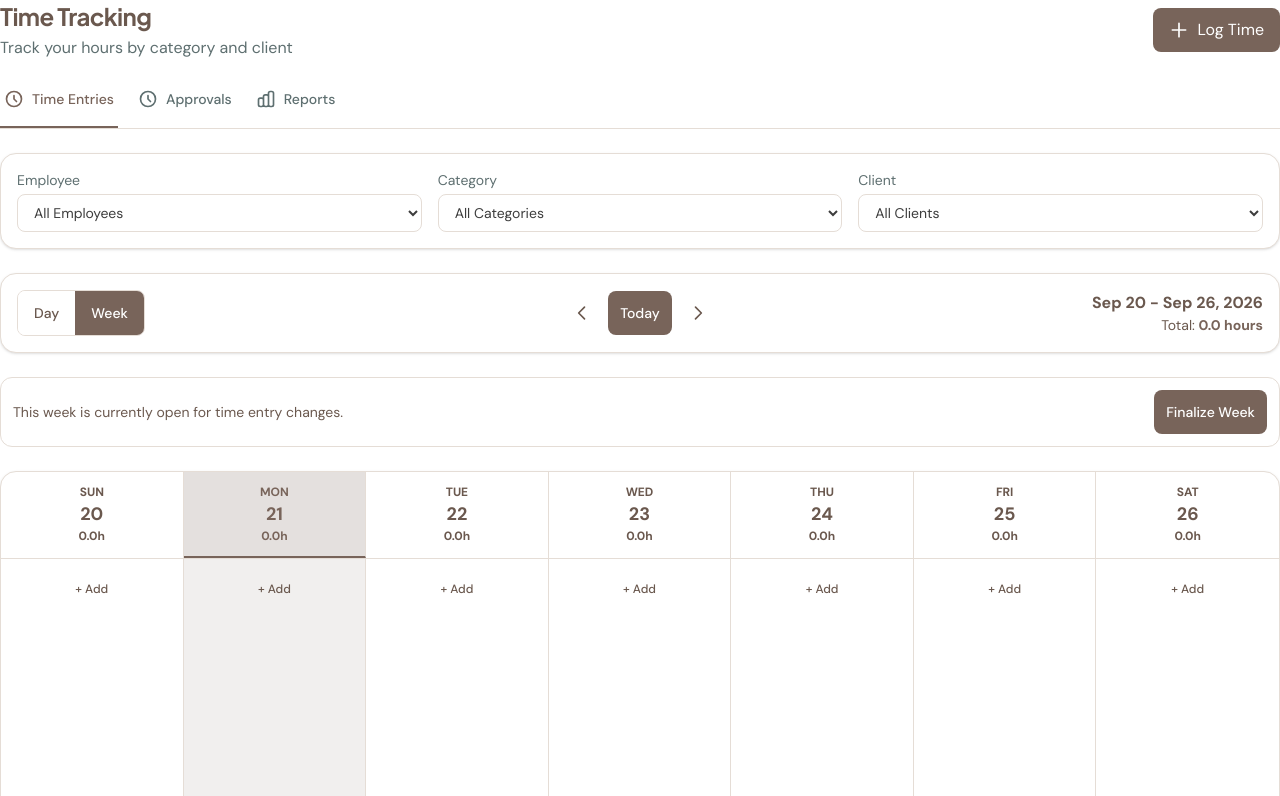
TimeTracking reports › requests long ranges and clears stale totals when a report fails
Click the button "Reports".
click(296, 106)  # box top-left (252, 84), bottom-right (339, 128)
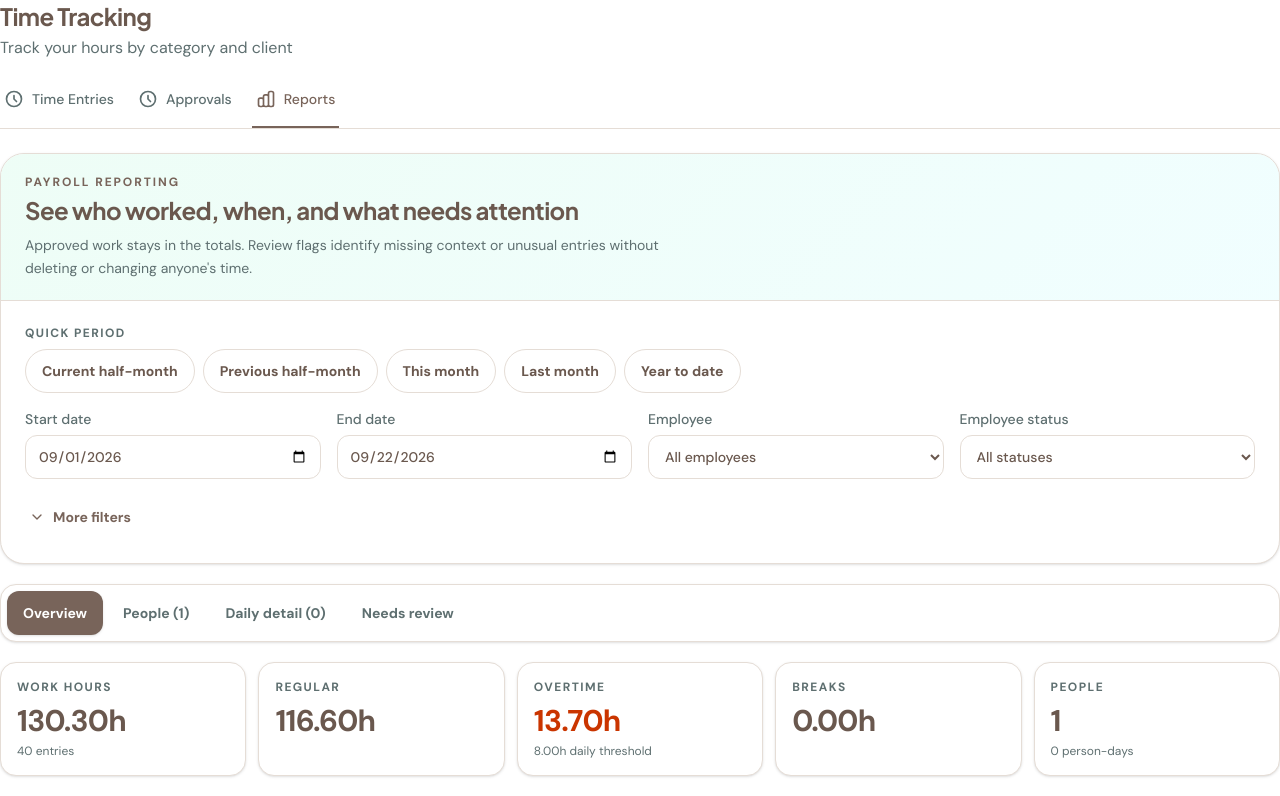
Expected: the text "130.30h" is shown, top-left (17, 700), bottom-right (126, 740)
Type "2026-12-31" into the date field labelled "End date".
click(484, 456); type("2026-12-31")  # box top-left (336, 434), bottom-right (632, 478)
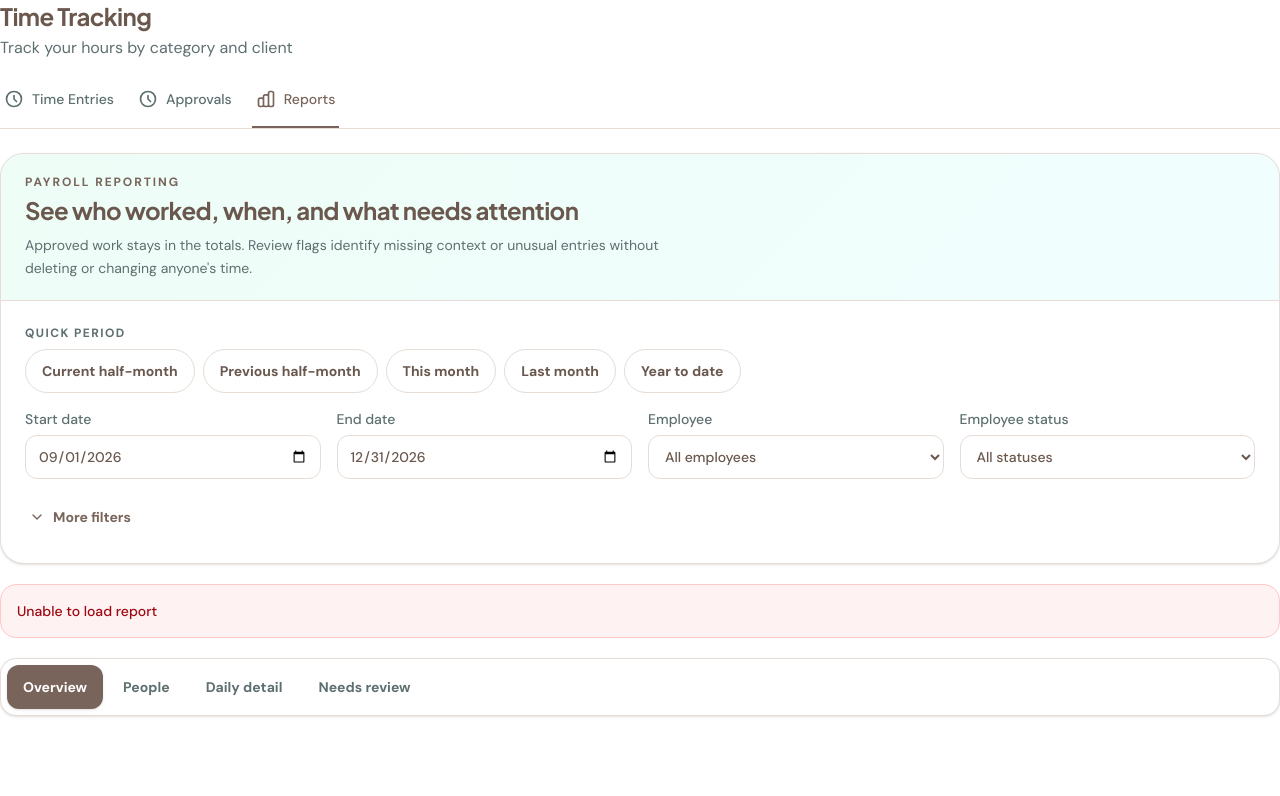
Expected: the message reads "Unable to load report", top-left (17, 602), bottom-right (157, 620)
Expected: the text "130.30h" is gone
